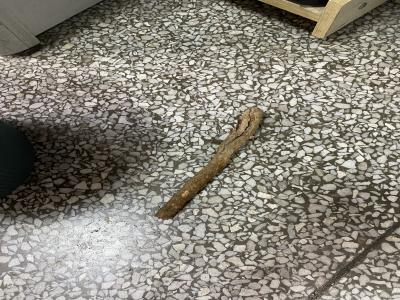Root: (154, 108, 263, 219)
